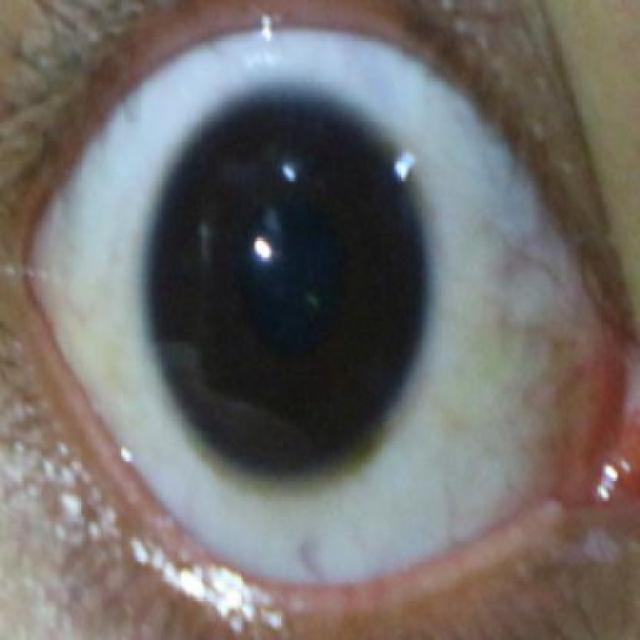Normal: (144, 83, 430, 481)
